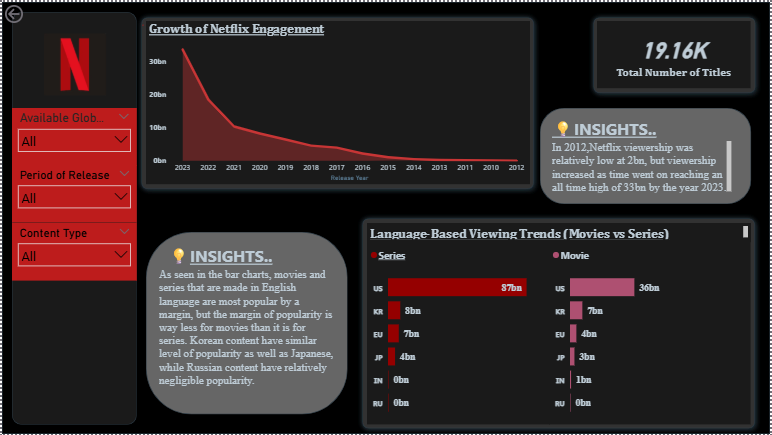

This screenshot's page, from the dashboard's own definition file:
{"tool":"powerbi","page":{"name":"Page 2","canvas":[1280,720],"ordinal":1},"visuals":[{"type":"shape","box":[0,0,1280,720],"z":0},{"type":"shape","box":[16,16,208,688],"z":1000},{"type":"shape","box":[224,16,672,304],"z":2000},{"type":"areaChart","title":"Growth of Netflix Engagement","fields":{"Category":["netflix_content.Release Year"],"Y":["Sum(netflix_content.Hours Viewed)"]},"box":[240,32,640,272],"z":3000},{"type":"slicer","fields":{"Values":["netflix_content.Available Globally?"]},"box":[16,176,208,96],"z":4000},{"type":"slicer","fields":{"Values":["netflix_content.Release Period (Seasons)"]},"box":[16,272,208,96],"z":5000},{"type":"slicer","fields":{"Values":["netflix_content.Content Type"]},"box":[16,368,208,96],"z":6000},{"type":"shape","box":[592,352,672,368],"z":7000},{"type":"barChart","fields":{"Y":["Sum(netflix_content.Hours Viewed)"],"Series":["netflix_content.Content Type"],"Category":["netflix_content.Language with Flag"]},"box":[608,400,304,304],"z":8000},{"type":"barChart","fields":{"Y":["Sum(netflix_content.Hours Viewed)"],"Series":["netflix_content.Content Type"],"Category":["netflix_content.Language with Flag"]},"box":[912,400,336,304],"z":9000},{"type":"shape","box":[896,176,352,160],"z":10000},{"type":"image","box":[65,16,176,160],"z":11000},{"type":"textbox","box":[608,368,640,32],"z":12000},{"type":"shape","box":[240,384,336,304],"z":14000},{"type":"textbox","box":[272,400,224,48],"z":15000},{"type":"textbox","box":[912,188,240,48],"z":16000},{"type":"textbox","box":[256,438,304,208],"z":17000},{"type":"textbox","box":[912,226,309,96],"z":18000},{"type":"shape","box":[976,16,288,144],"z":19000},{"type":"card","fields":{"Values":["netflix_content.TOTAL NUMBER OF TITLES"]},"box":[992,32,256,112],"z":20000}]}

Visuals, with their boxes in screenshot pixels (x1, y1, x2, y2), scaled from the page's 1280x720 canvas onto the 772x435 screenshot:
shape: <box>0,0,771,434</box>
shape: <box>10,10,135,425</box>
shape: <box>135,10,540,193</box>
"Growth of Netflix Engagement" areaChart: <box>145,19,531,184</box>
slicer - netflix_content.Available Globally?: <box>10,106,135,164</box>
slicer - netflix_content.Release Period (Seasons): <box>10,164,135,222</box>
slicer - netflix_content.Content Type: <box>10,222,135,280</box>
shape: <box>357,213,762,434</box>
barChart - Sum(netflix_content.Hours Viewed) x netflix_content.Content Type: <box>367,242,550,425</box>
barChart - Sum(netflix_content.Hours Viewed) x netflix_content.Content Type: <box>550,242,753,425</box>
shape: <box>540,106,753,203</box>
image: <box>39,10,145,106</box>
textbox: <box>367,222,753,242</box>
shape: <box>145,232,347,416</box>
textbox: <box>164,242,299,271</box>
textbox: <box>550,114,695,143</box>
textbox: <box>154,265,338,390</box>
textbox: <box>550,137,736,195</box>
shape: <box>589,10,762,97</box>
card - netflix_content.TOTAL NUMBER OF TITLES: <box>598,19,753,87</box>
